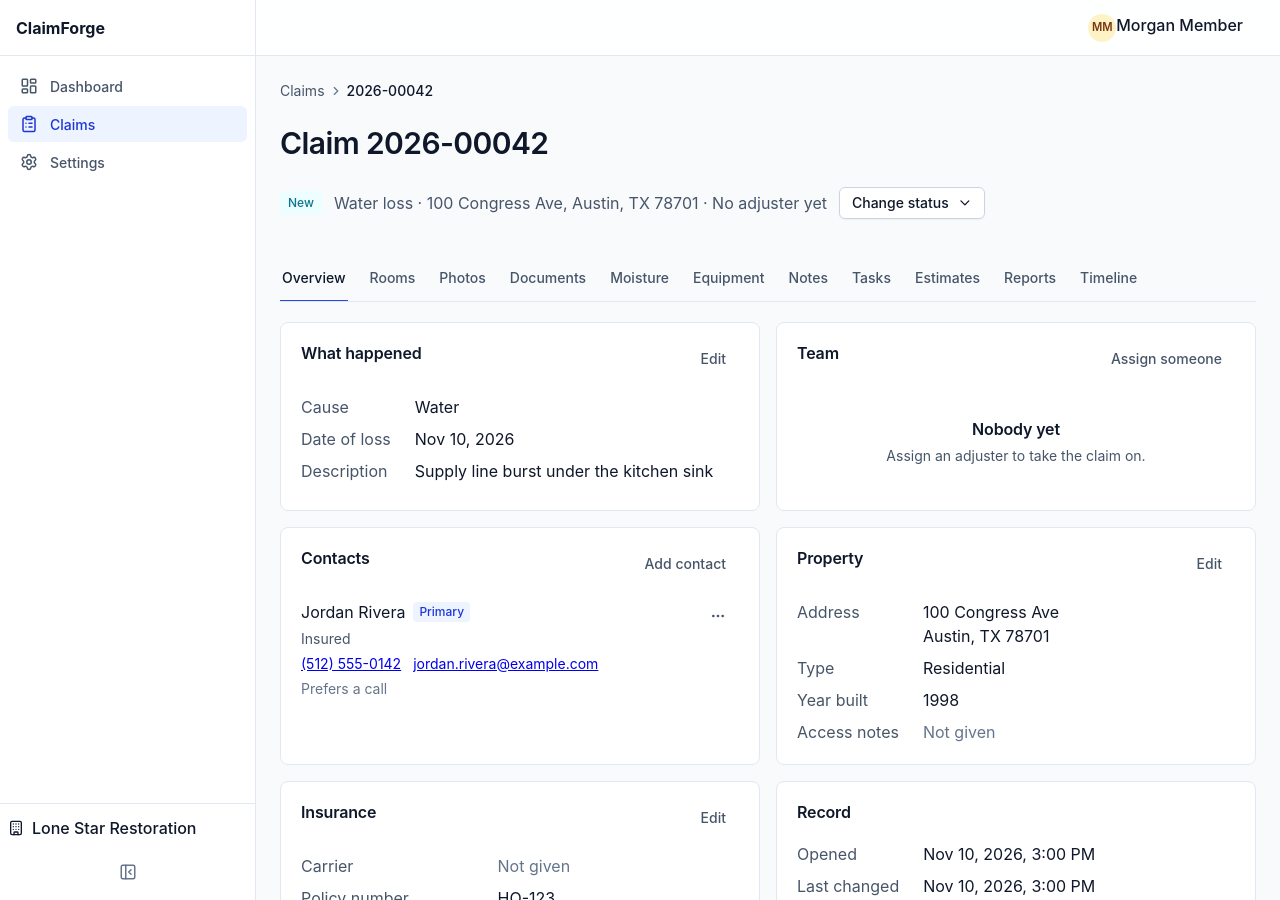
editing the loss and insurance › opens with the claim as it is, and saves what changed
This screenshot has width=1280, height=900.
Click the button with aria-label "Edit what happened" at (713, 358), box [688,342,739,374]
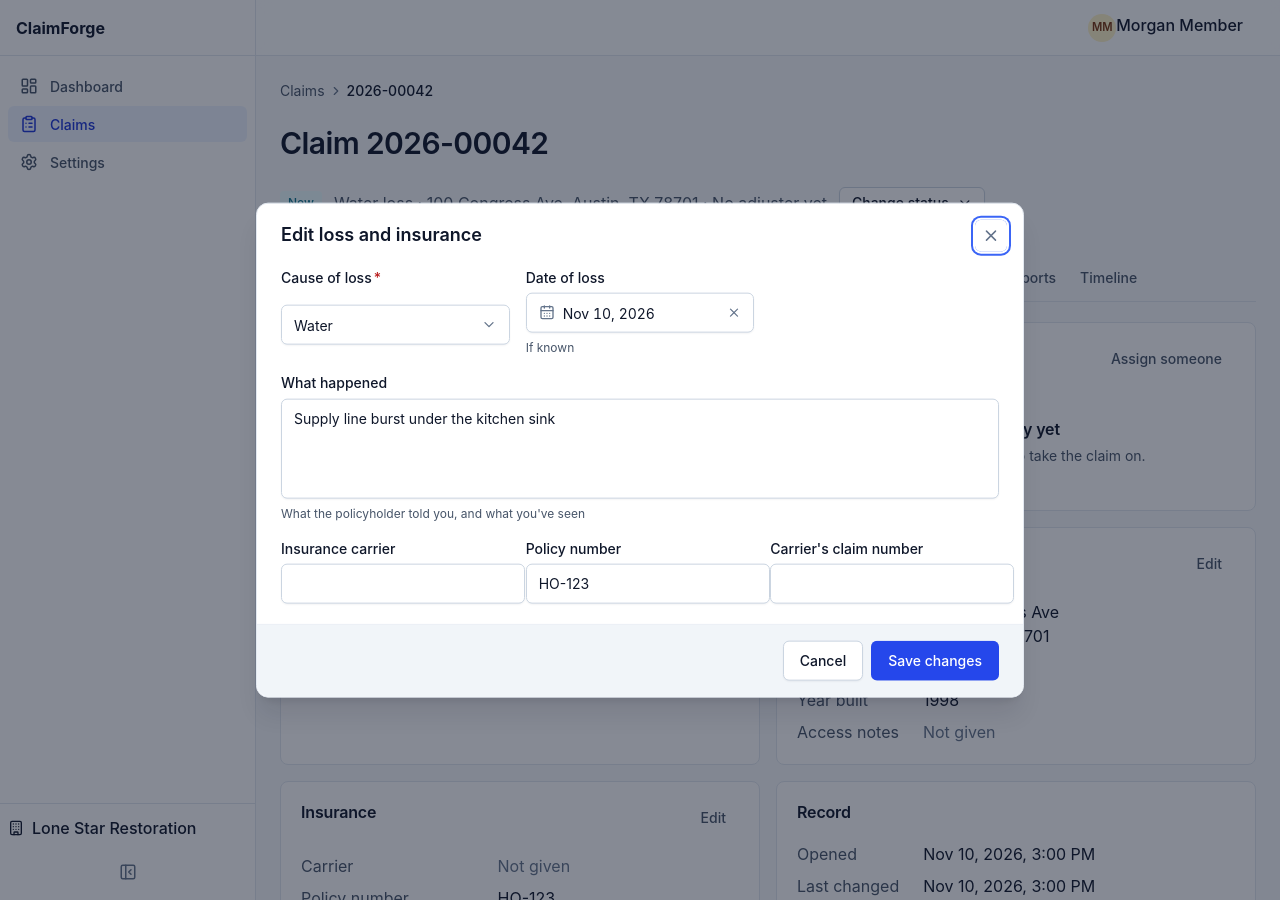
expect the text box labelled "What happened" holds "Supply line burst under the kitchen sink": met
expect the field labelled "Policy number" holds "HO-123": met, box [539,564,757,602]
Clear the text box labelled "What happened" at (640, 448), box [281,398,999,498]
Type keys "Dishwasher hose split"
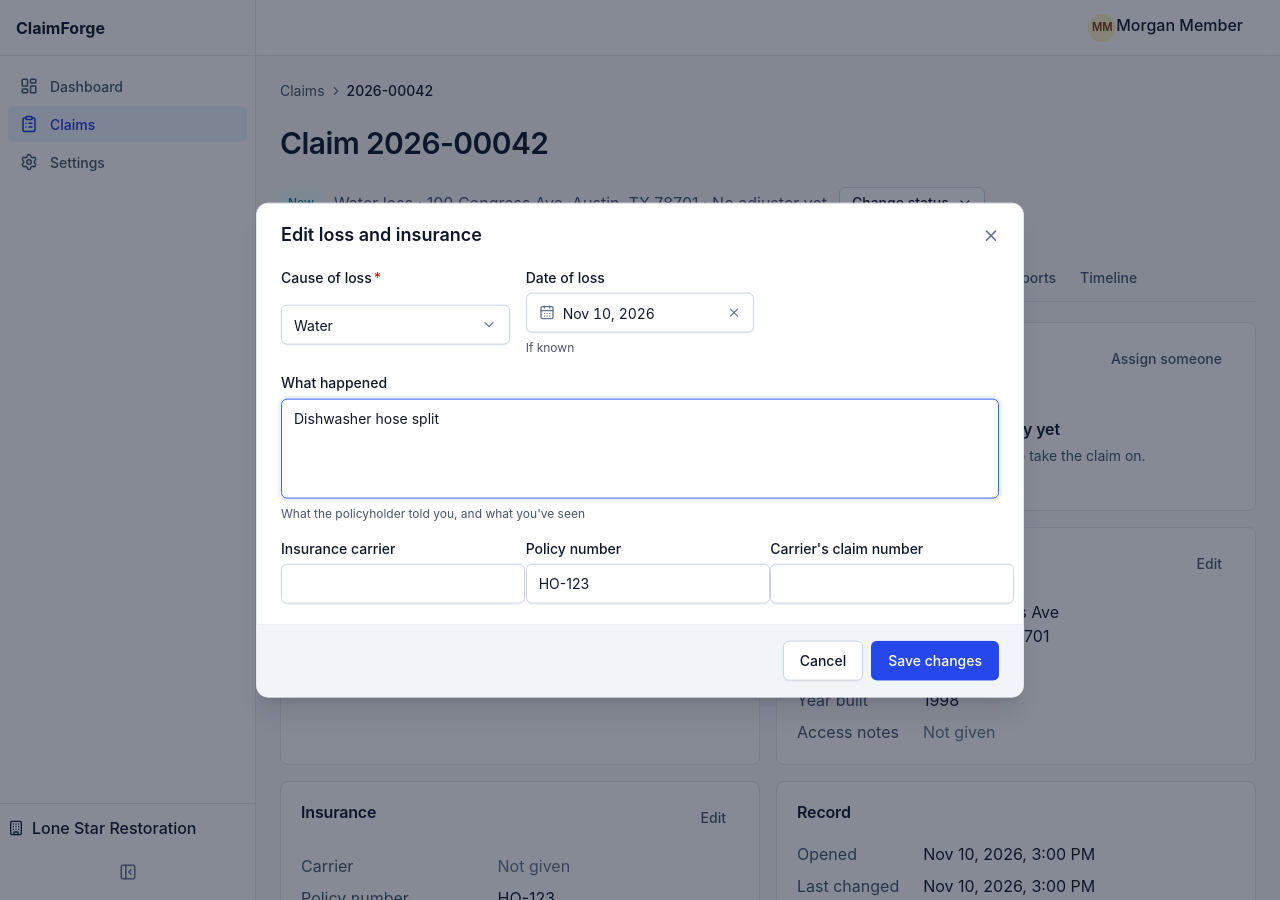
Clear the field labelled "Policy number" at (648, 583), box [539,564,757,602]
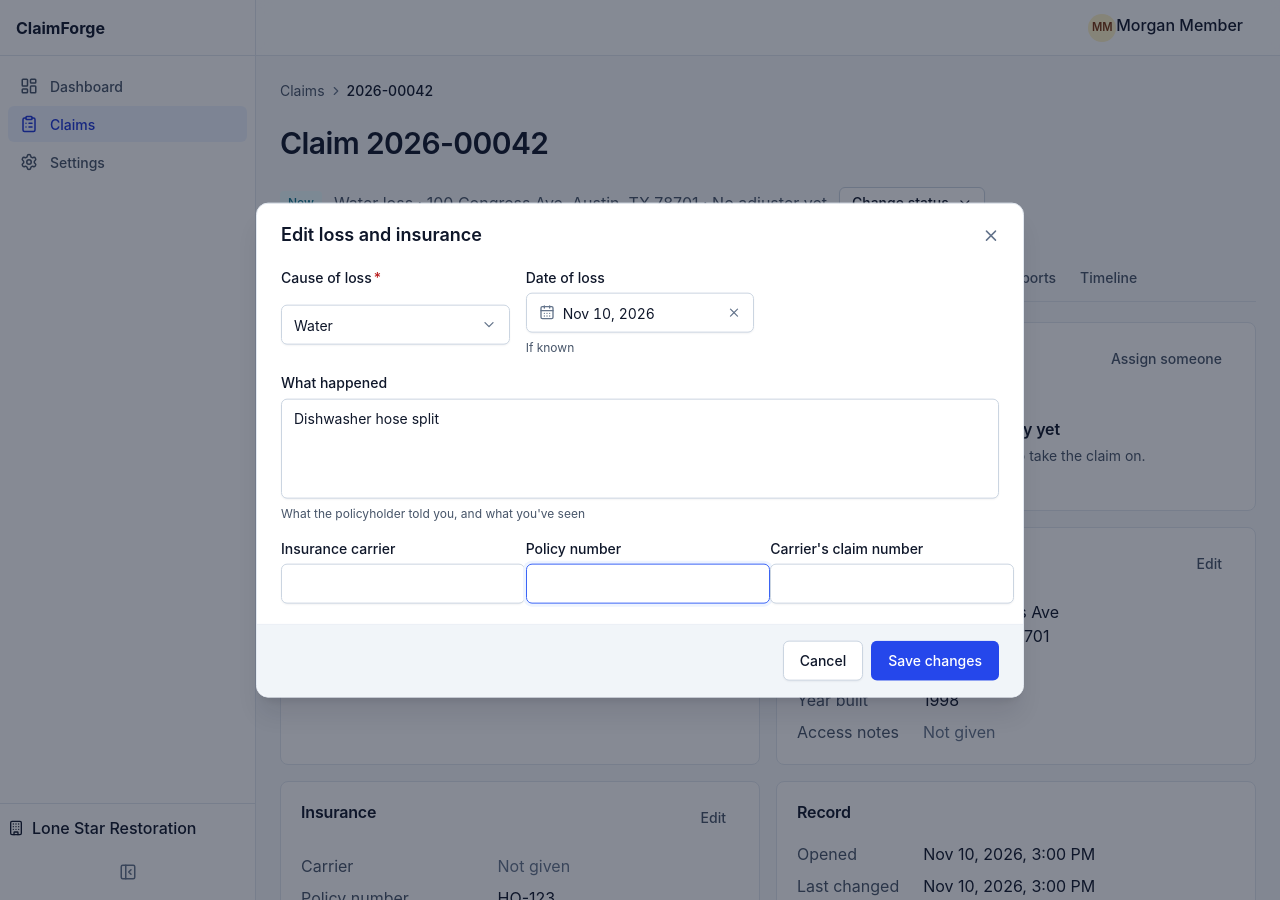
Click the field labelled "Insurance carrier" at (403, 583), box [294,564,512,602]
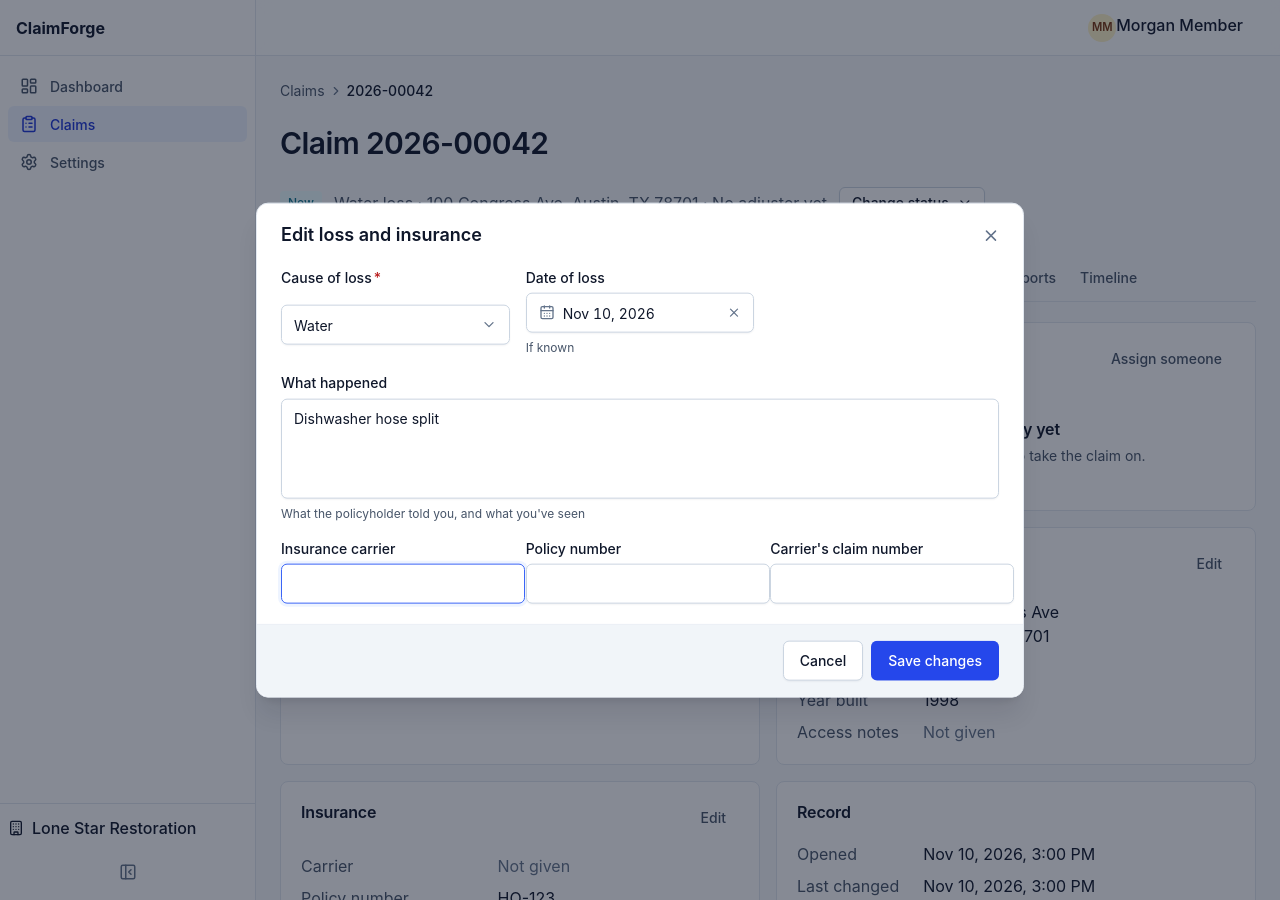
Type keys "Lone Star Mutual"
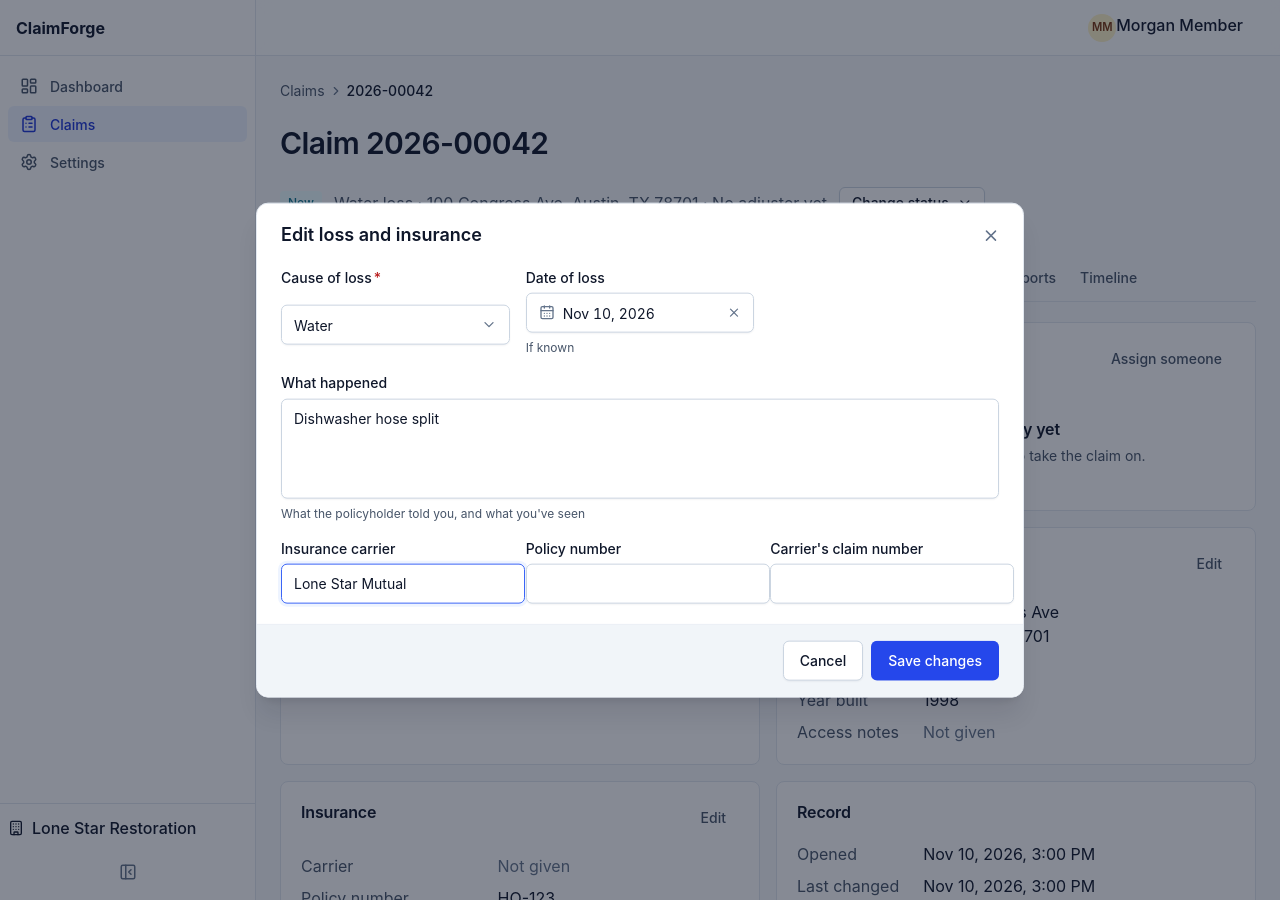
Click the button "Save changes" at (935, 660), box [871,640,999,680]
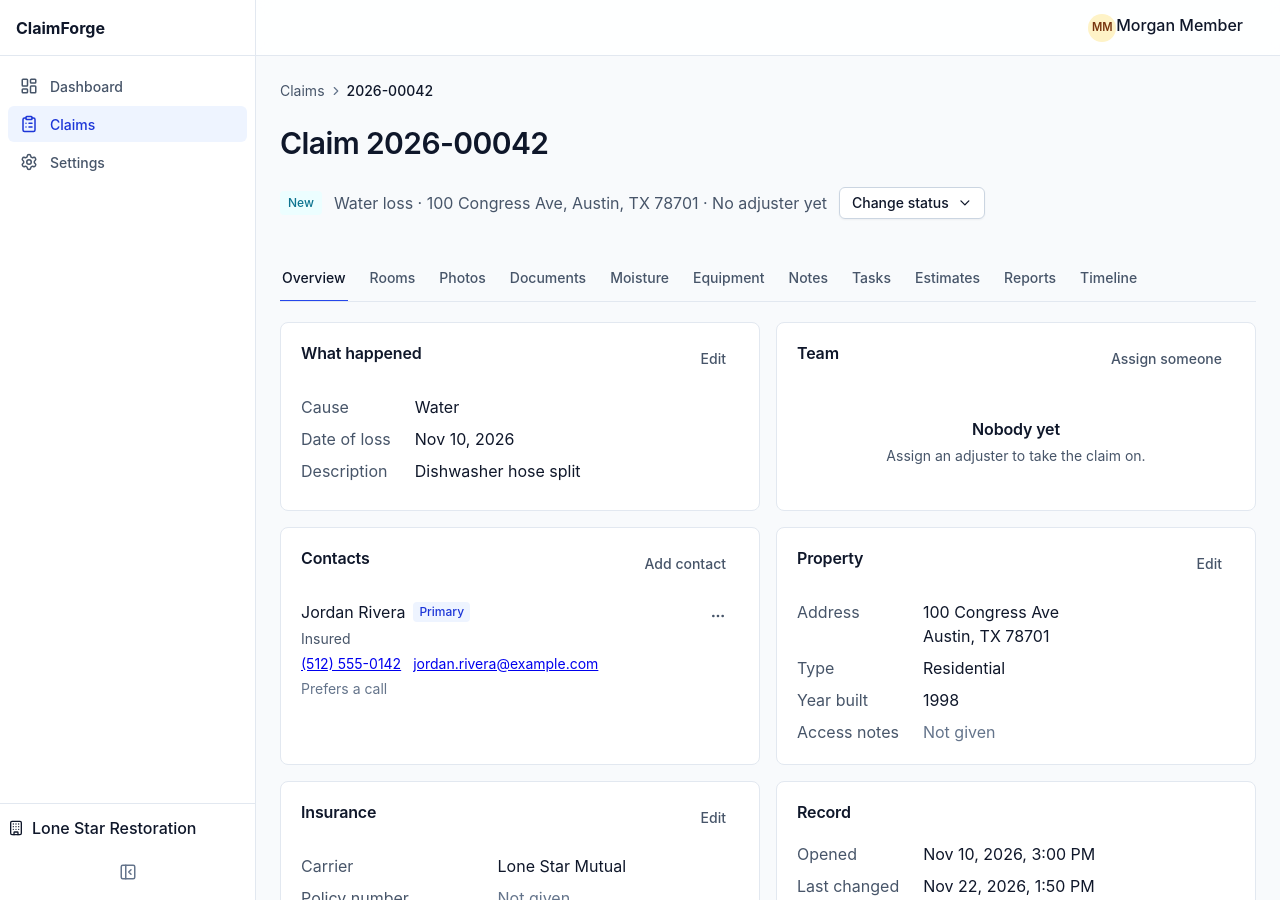
expect the dialog is gone: met
expect the text "Dishwasher hose split" is shown: met, box [415,460,580,480]
expect the text "Lone Star Mutual" is shown: met, box [498,856,626,876]
